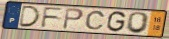C: (84, 10, 106, 31)
D: (18, 5, 42, 28)
F: (40, 7, 65, 29)
G: (105, 10, 127, 33)
O: (125, 12, 152, 35)
P: (62, 7, 85, 31)
